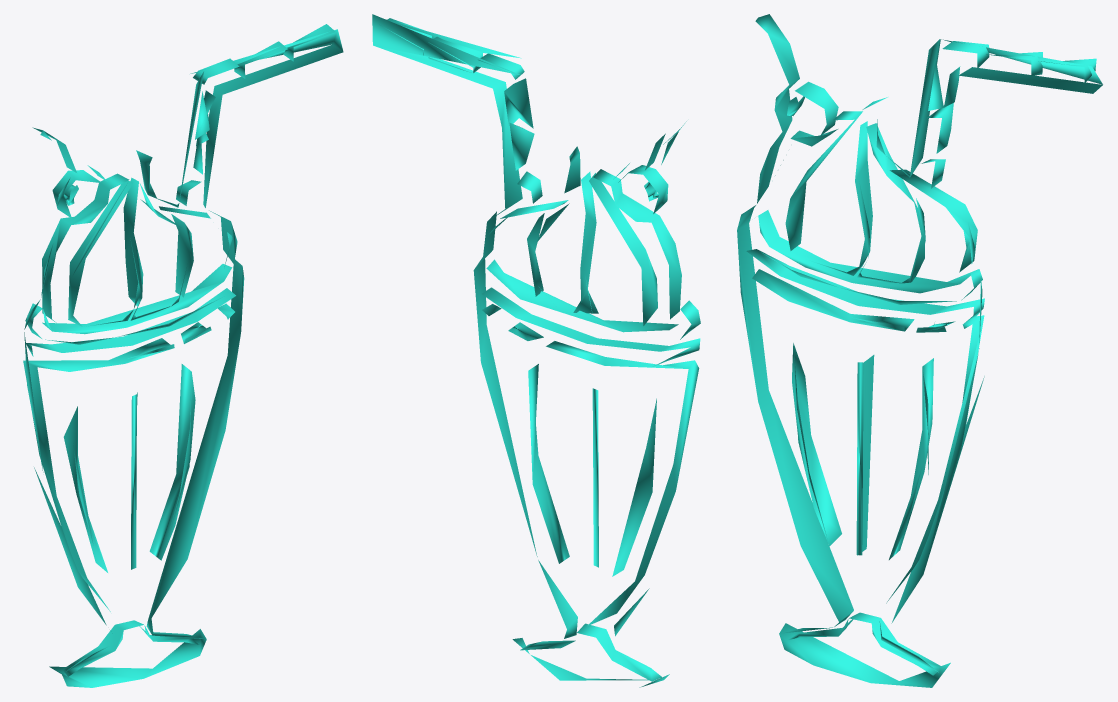
File: milkshake.glb
3 renders of one model, left to right at view 1: azimuth 30°, elevation 25°; view 2: azimuth 150°, elevation 25°; view 3: azimuth 330°, elevation 25°, orthographic. The views are drawn at different scales.
Parts seen in each view (by area): view 1: Curve; view 2: Curve; view 3: Curve.
Part boxes in pixels (x1,y1,x2,y2): Curve: [23, 24, 343, 687]; Curve: [372, 14, 700, 687]; Curve: [737, 14, 1102, 687].
Bounding box in the file's own units: 1.55 × 2.83 × 0.1166.
